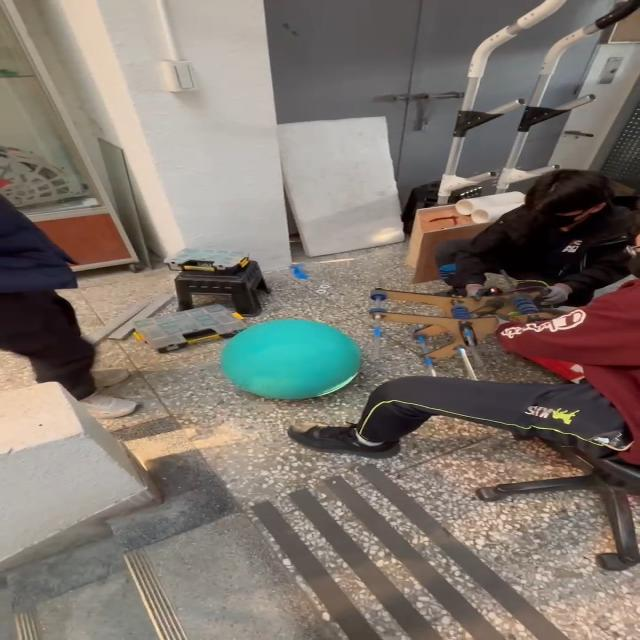ALGAE: (218, 318, 362, 400)
